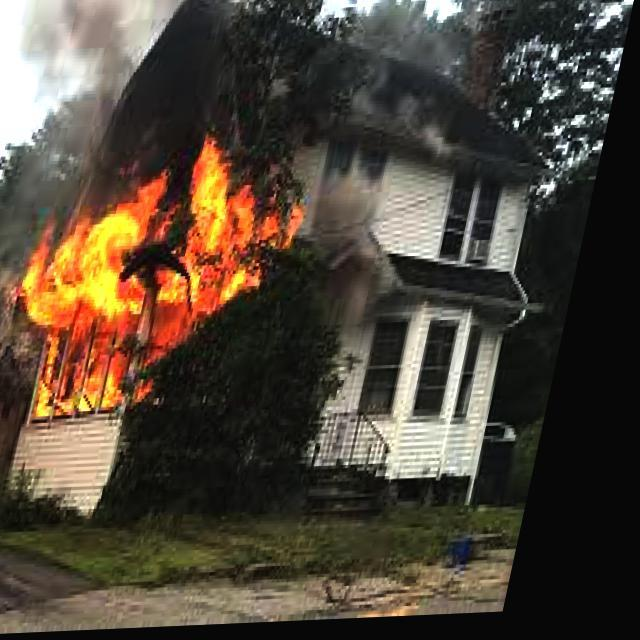Fire: (0, 166, 313, 440)
